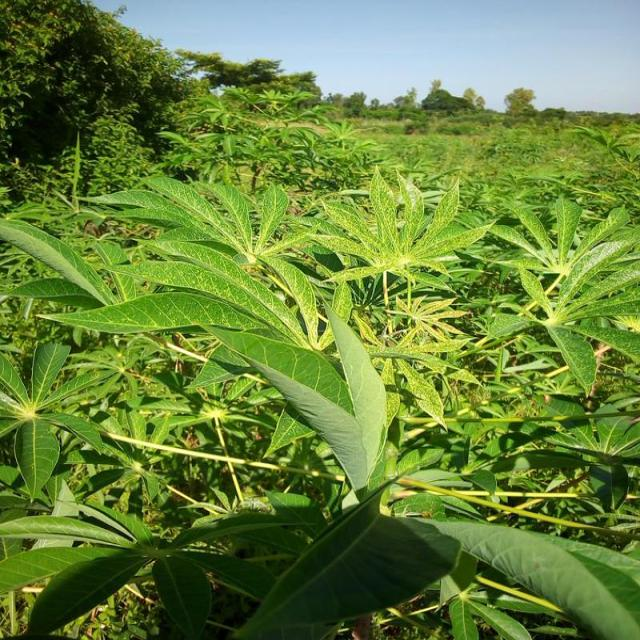cassava leaf: (0, 160, 638, 637), (199, 299, 388, 495)
